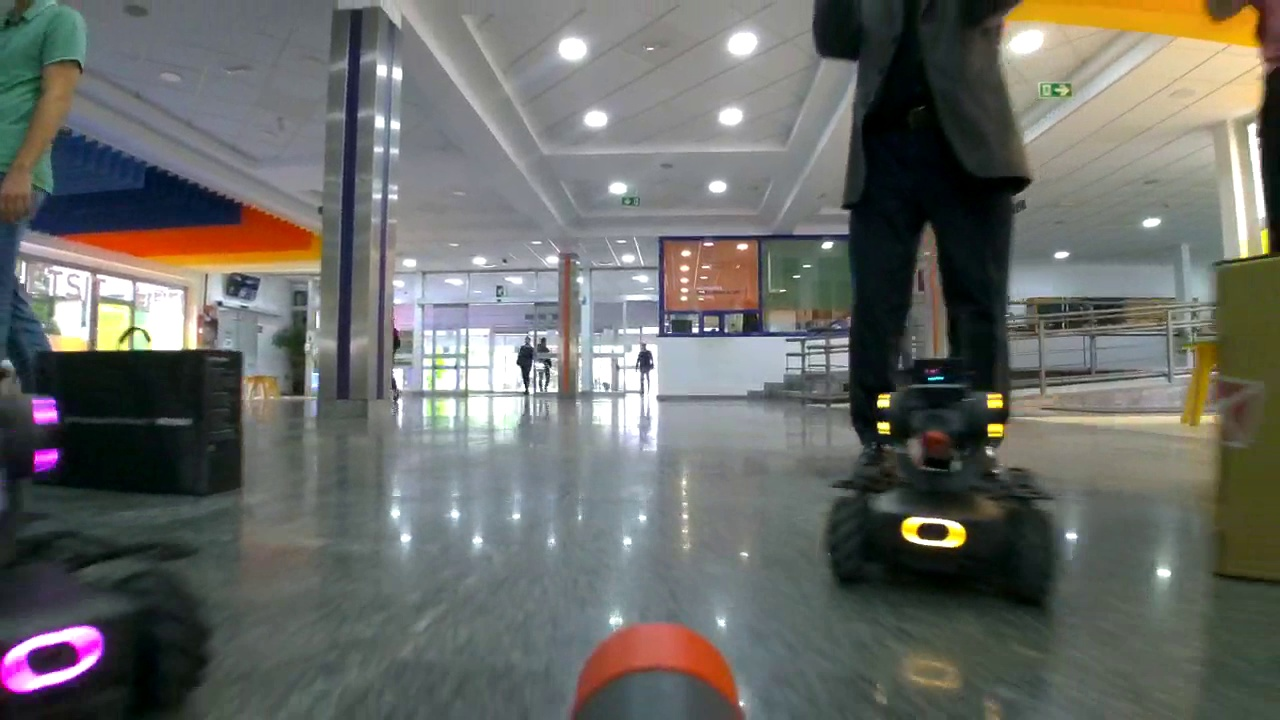robot: (829, 358, 1056, 611)
